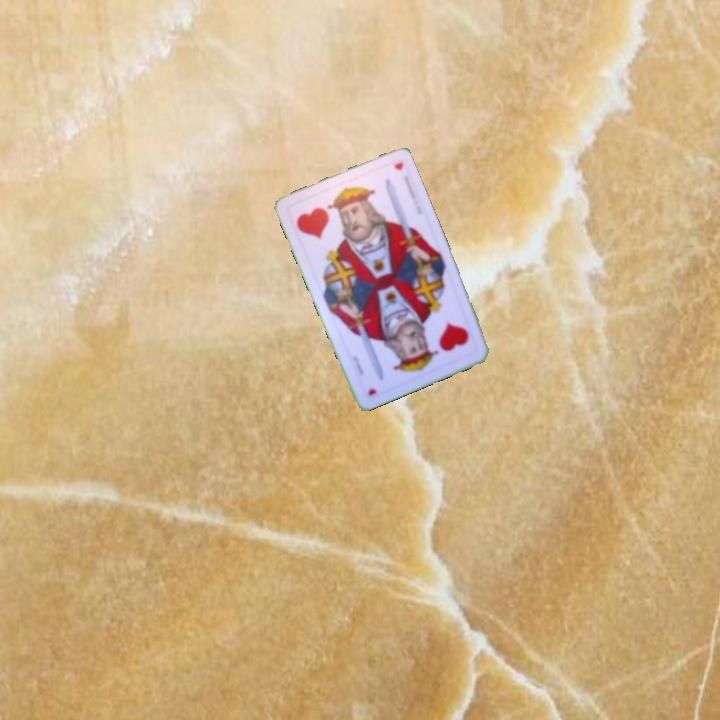h_k.png: (284, 181, 366, 259), (400, 299, 482, 376)
